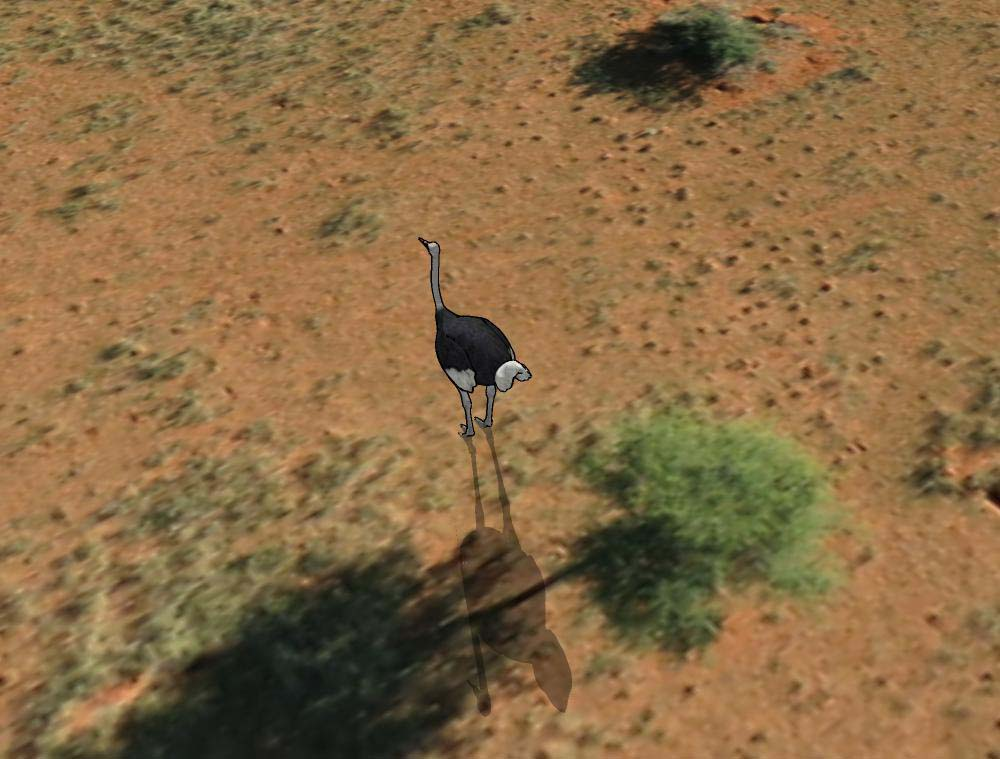ostrich: (412, 226, 533, 444)
